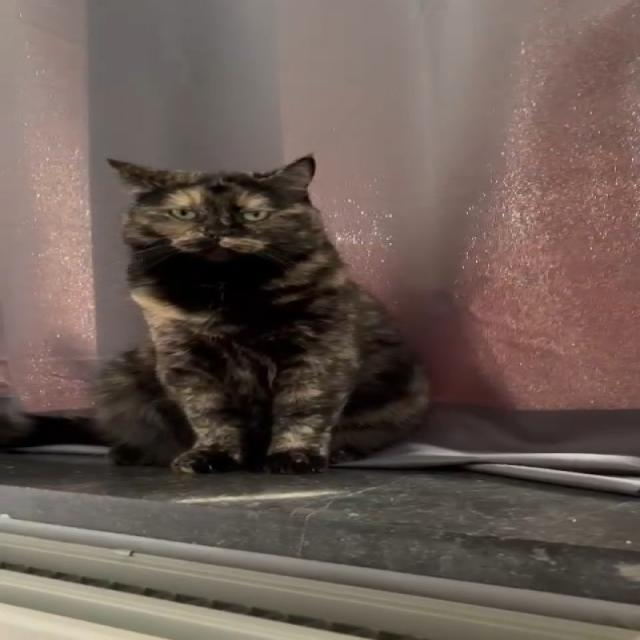authorized: (88, 152, 432, 474)
